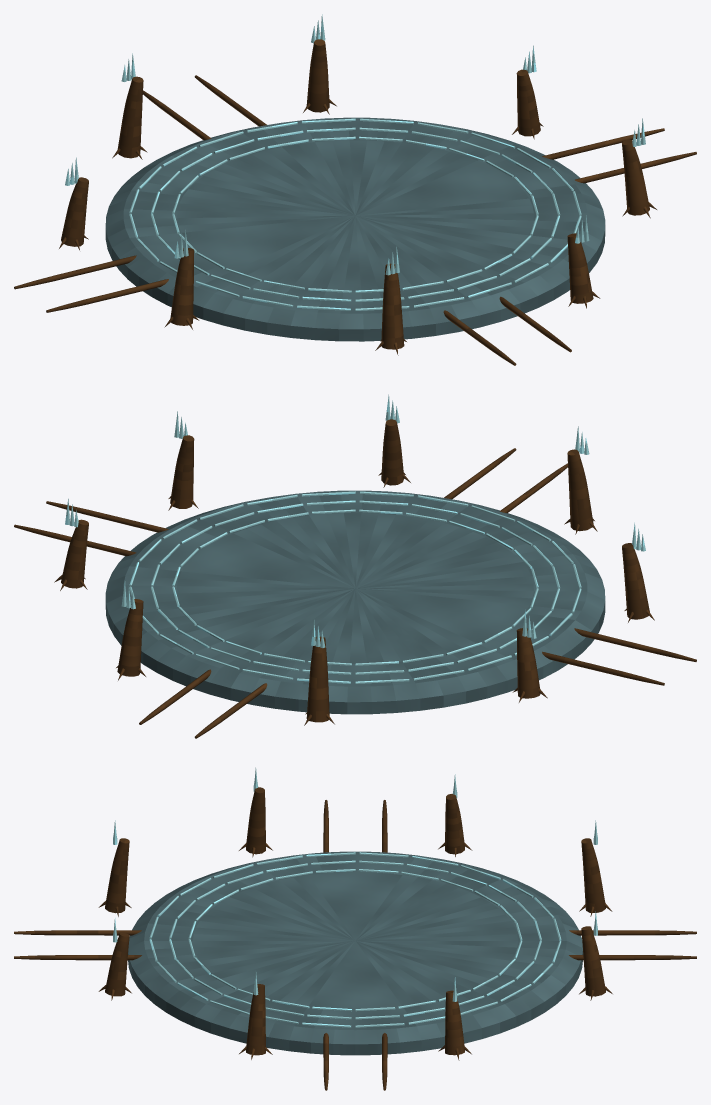
The model's file is underworld-boss-arena-blackwater-maw.glb.
3 renders of one model, top to bottom at view 1: azimuth 30°, elevation 25°; view 2: azimuth 150°, elevation 25°; view 3: azimuth 270°, elevation 25°, orthographic. The views are drawn at different scales.
Visible parts, largest first — view 1: combat-foundation, floor-inlay-2, floor-inlay-1, floor-inlay-0, buttress-2, buttress-5, buttress-4, buttress-7, buttress-1, buttress-3, buttress-6, buttress-0 (+5 smaller); view 2: combat-foundation, floor-inlay-2, floor-inlay-1, floor-inlay-0, buttress-5, buttress-2, buttress-4, buttress-1, buttress-7, buttress-3, buttress-0, buttress-6 (+6 smaller); view 3: combat-foundation, floor-inlay-2, floor-inlay-1, floor-inlay-0, buttress-5, buttress-2, buttress-1, buttress-7, buttress-4, buttress-6, buttress-0, buttress-3 (+4 smaller).
Boxes of the visible parts, left/top/right/bottom form: combat-foundation: left=105, top=117, right=605, bottom=341; floor-inlay-2: left=129, top=118, right=581, bottom=310; floor-inlay-1: left=150, top=127, right=560, bottom=301; floor-inlay-0: left=172, top=136, right=538, bottom=292; buttress-2: left=117, top=76, right=143, bottom=158; buttress-5: left=381, top=263, right=404, bottom=349; buttress-4: left=170, top=248, right=194, bottom=325; buttress-7: left=622, top=139, right=649, bottom=215; buttress-1: left=306, top=39, right=329, bottom=112; buttress-3: left=61, top=177, right=88, bottom=246; buttress-6: left=567, top=233, right=593, bottom=303; buttress-0: left=516, top=69, right=540, bottom=136; combat-foundation: left=105, top=490, right=605, bottom=714; floor-inlay-2: left=129, top=491, right=581, bottom=683; floor-inlay-1: left=150, top=500, right=560, bottom=674; floor-inlay-0: left=172, top=509, right=538, bottom=665; buttress-5: left=567, top=449, right=593, bottom=531; buttress-2: left=306, top=636, right=329, bottom=722; buttress-4: left=622, top=543, right=649, bottom=619; buttress-1: left=117, top=599, right=143, bottom=676; buttress-7: left=170, top=435, right=194, bottom=508; buttress-3: left=516, top=628, right=540, bottom=698; buttress-0: left=61, top=519, right=88, bottom=588; buttress-6: left=381, top=419, right=404, bottom=485; combat-foundation: left=128, top=851, right=583, bottom=1055; floor-inlay-2: left=149, top=852, right=561, bottom=1027; floor-inlay-1: left=169, top=860, right=541, bottom=1019; floor-inlay-0: left=188, top=869, right=522, bottom=1011; buttress-5: left=105, top=838, right=129, bottom=913; buttress-2: left=581, top=838, right=605, bottom=912; buttress-1: left=581, top=926, right=605, bottom=996; buttress-7: left=246, top=984, right=265, bottom=1055; buttress-4: left=246, top=787, right=265, bottom=854; buttress-6: left=105, top=933, right=129, bottom=996; buttress-0: left=445, top=990, right=464, bottom=1055; buttress-3: left=445, top=794, right=464, bottom=854.
Size of the model in its own units: 42 by 6.7 by 42.
Materials: 3 (3 with a texture image).
